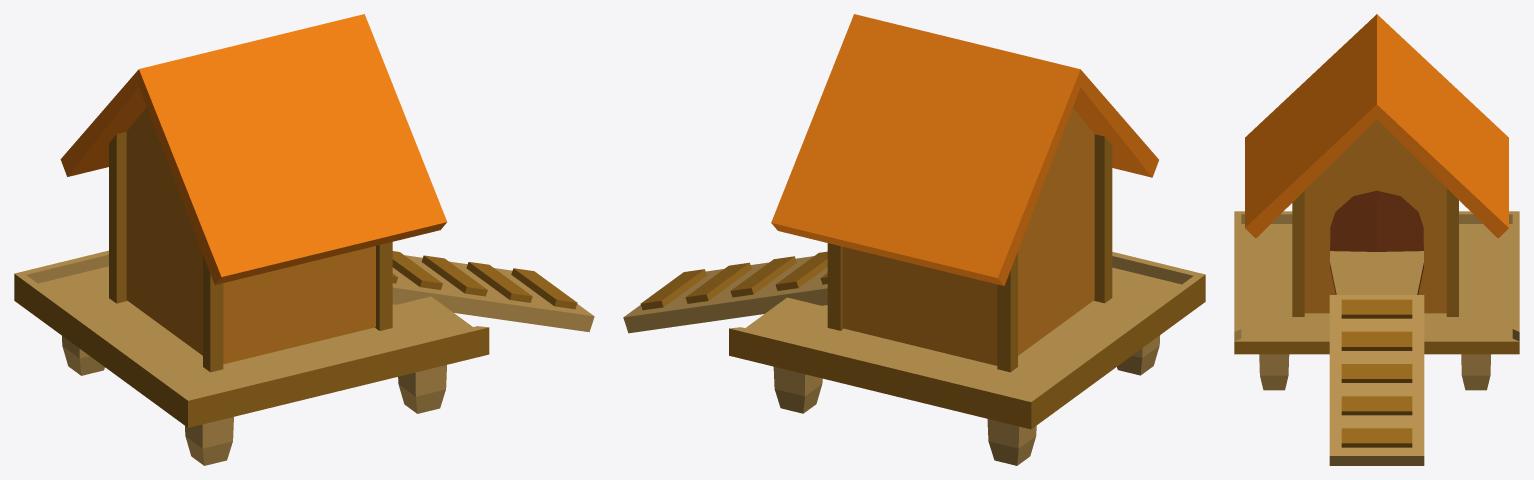
The model's file is henouse.glb.
The picture shows the model from 3 angles, left to right: view 1: azimuth 30°, elevation 25°; view 2: azimuth 150°, elevation 25°; view 3: azimuth 270°, elevation 25°; orthographic projection. The views are drawn at different scales.
Parts seen in each view (by area): view 1: henouse; view 2: henouse; view 3: henouse.
Part boxes in pixels (box(x1,y1,x2,y2)): henouse: box(14, 14, 594, 465); henouse: box(623, 14, 1205, 465); henouse: box(1234, 14, 1519, 465).
Size of the model in its own units: 12.43 by 8.83 by 8.06.
1 material, 1 textured.
